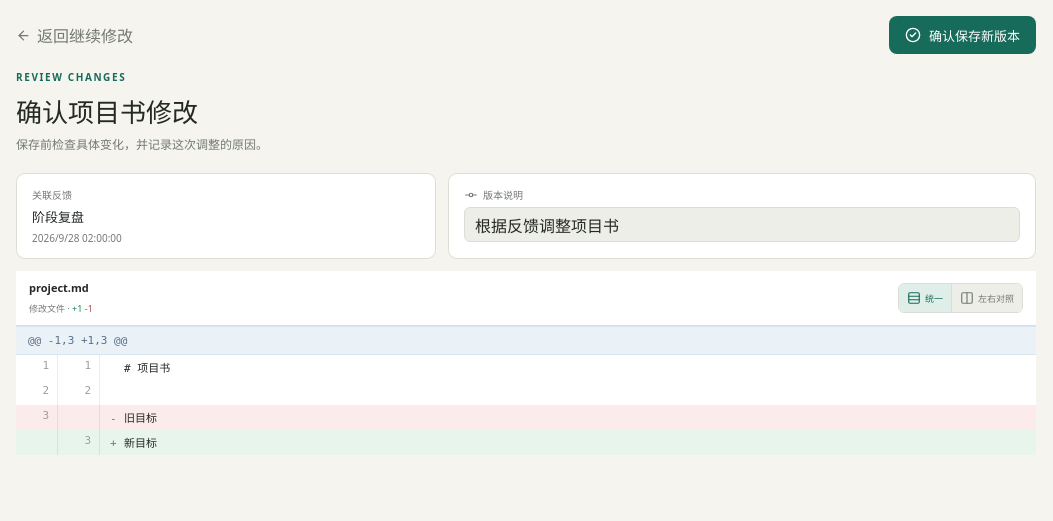
Test: ProjectVersionConfirmation › keeps the draft when the project file changed externally
What coordinates should you click on to do the following:
click the button "确认保存新版本"
I would click on:
 (962, 35)
Its box is [889,16,1036,54].
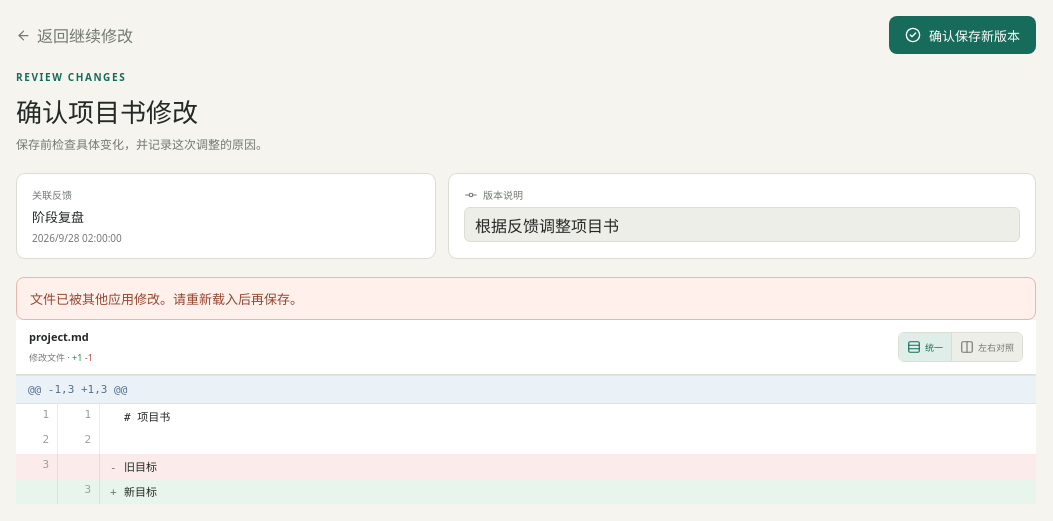
Now the text "文件已被其他应用修改。请重新载入后再保存。" is shown, box [16,277,1036,320]
